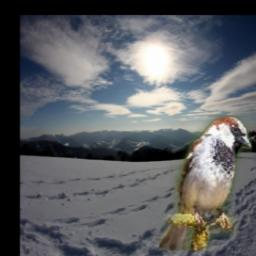Sparrow: (158, 115, 251, 250)
